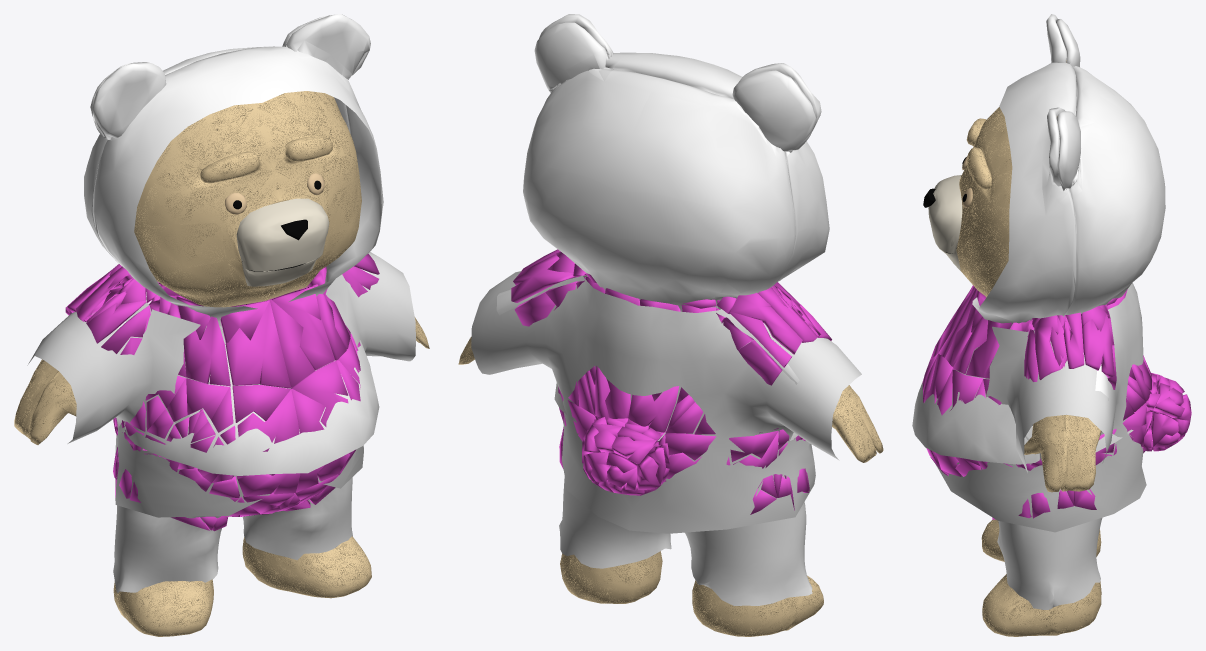
The model's file is ted_1684454893502.gltf.
3 views of the same model, side by side, from view 1: azimuth 30°, elevation 25°; view 2: azimuth 150°, elevation 25°; view 3: azimuth 270°, elevation 25° (orthographic). The views are drawn at different scales.
Parts seen in each view (by area): view 1: Material.005_Body, Material.012_Hoodie, Material.008_Quilted_Jacket, Material.010_T-Shirt, Material.003_Body, Material.011_Jean, Cube.002_Material.006, Material.009_Quilted_Jean, Material.004_Eye_Iris; view 2: Material.012_Hoodie, Material.010_T-Shirt, Material.008_Quilted_Jacket, Material.011_Jean, Material.005_Body, Material.003_Body, Material.009_Quilted_Jean; view 3: Material.012_Hoodie, Material.010_T-Shirt, Material.008_Quilted_Jacket, Material.005_Body, Material.011_Jean, Material.003_Body, Cube.002_Material.006, Material.009_Quilted_Jean.
Part boxes in pixels (left/top/right/bottom): Material.005_Body: left=14, top=91, right=429, bottom=636; Material.012_Hoodie: left=84, top=14, right=383, bottom=475; Material.008_Quilted_Jacket: left=65, top=253, right=379, bottom=516; Material.010_T-Shirt: left=27, top=252, right=415, bottom=517; Material.003_Body: left=15, top=91, right=428, bottom=635; Material.011_Jean: left=113, top=477, right=352, bottom=593; Cube.002_Material.006: left=236, top=198, right=329, bottom=286; Material.009_Quilted_Jean: left=113, top=447, right=335, bottom=531; Material.004_Eye_Iris: left=225, top=173, right=324, bottom=214; Material.012_Hoodie: left=496, top=14, right=829, bottom=444; Material.010_T-Shirt: left=471, top=271, right=861, bottom=533; Material.008_Quilted_Jacket: left=511, top=249, right=831, bottom=495; Material.011_Jean: left=559, top=477, right=812, bottom=605; Material.005_Body: left=458, top=337, right=883, bottom=636; Material.003_Body: left=459, top=338, right=882, bottom=636; Material.009_Quilted_Jean: left=559, top=426, right=809, bottom=514; Material.012_Hoodie: left=912, top=14, right=1165, bottom=464; Material.010_T-Shirt: left=935, top=283, right=1146, bottom=532; Material.008_Quilted_Jacket: left=922, top=285, right=1191, bottom=476; Material.005_Body: left=956, top=60, right=1101, bottom=636; Material.011_Jean: left=997, top=518, right=1102, bottom=609; Material.003_Body: left=957, top=109, right=1100, bottom=636; Cube.002_Material.006: left=928, top=175, right=962, bottom=270; Material.009_Quilted_Jean: left=992, top=489, right=1096, bottom=519.
Bounding box in the file's own units: 7.57 × 10.02 × 4.85.
